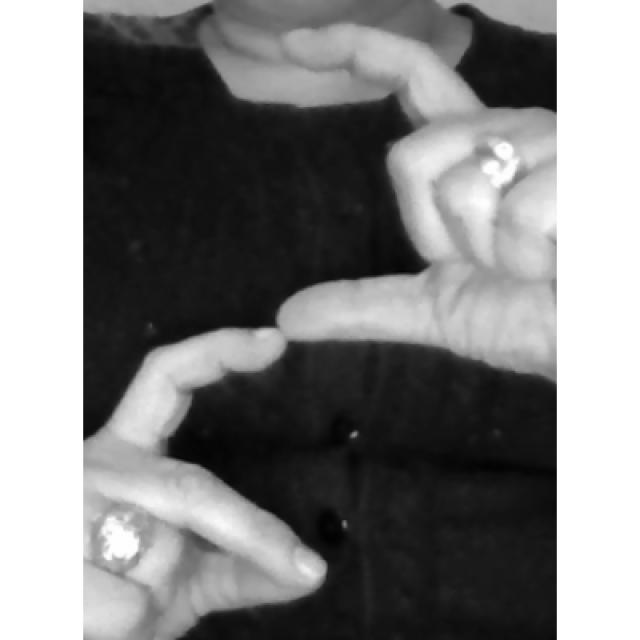S_: (86, 17, 555, 640)
